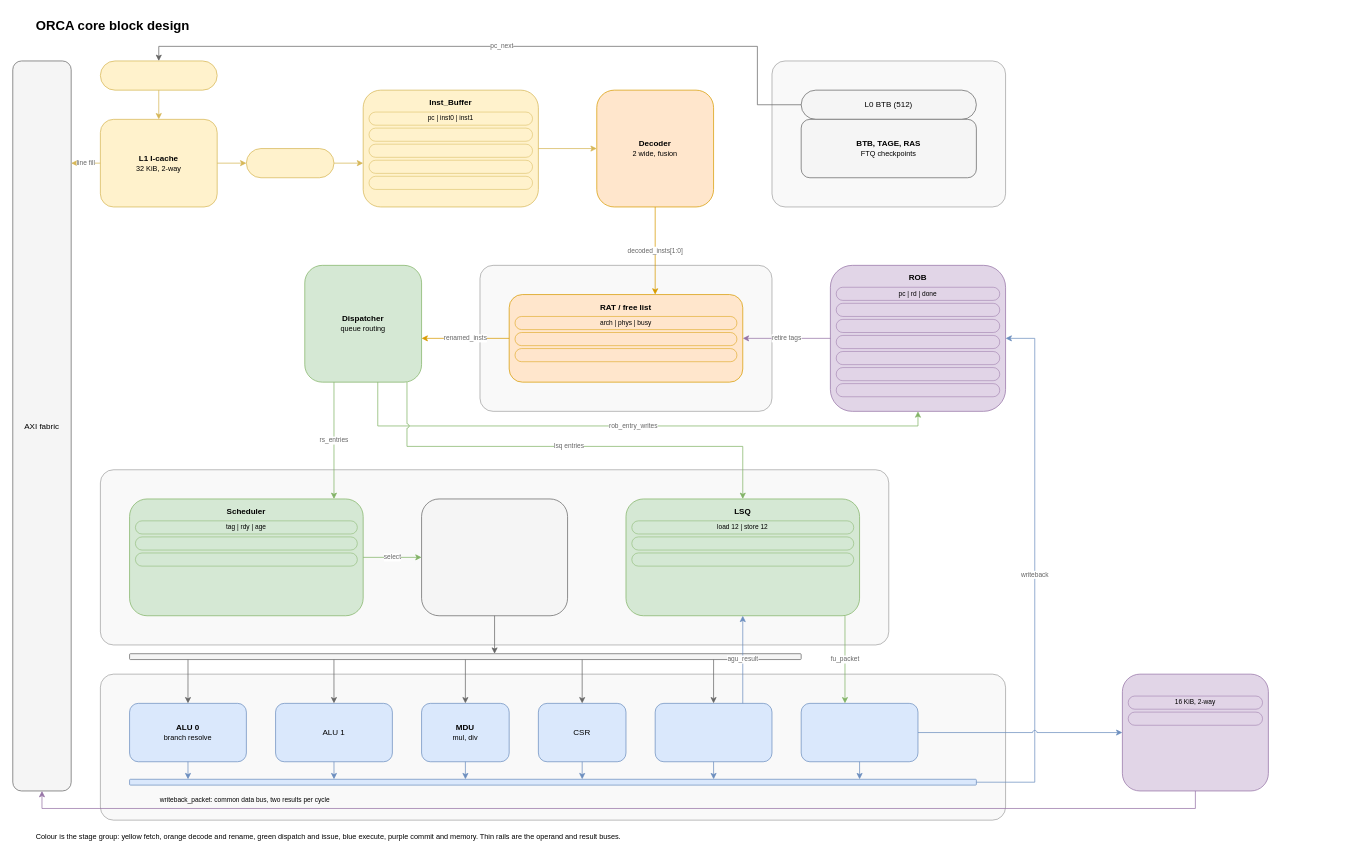
This 1347x857 diagram has some shape labels left out. The box of each missing label's shape, as (x1, y1, x2, y2) in pixels:
AGU: (654, 703, 772, 762)
BPU: (771, 60, 1006, 207)
Execute: (100, 673, 1006, 820)
Issue and register read: (100, 469, 889, 645)
L1 D-cache: (1122, 673, 1268, 791)
LSU: (800, 703, 918, 762)
PC: (100, 60, 217, 90)
predecode: (246, 148, 334, 178)
Register read PRF 64 x 32 6 read ports: (421, 498, 568, 616)
Rename: (479, 265, 772, 411)
